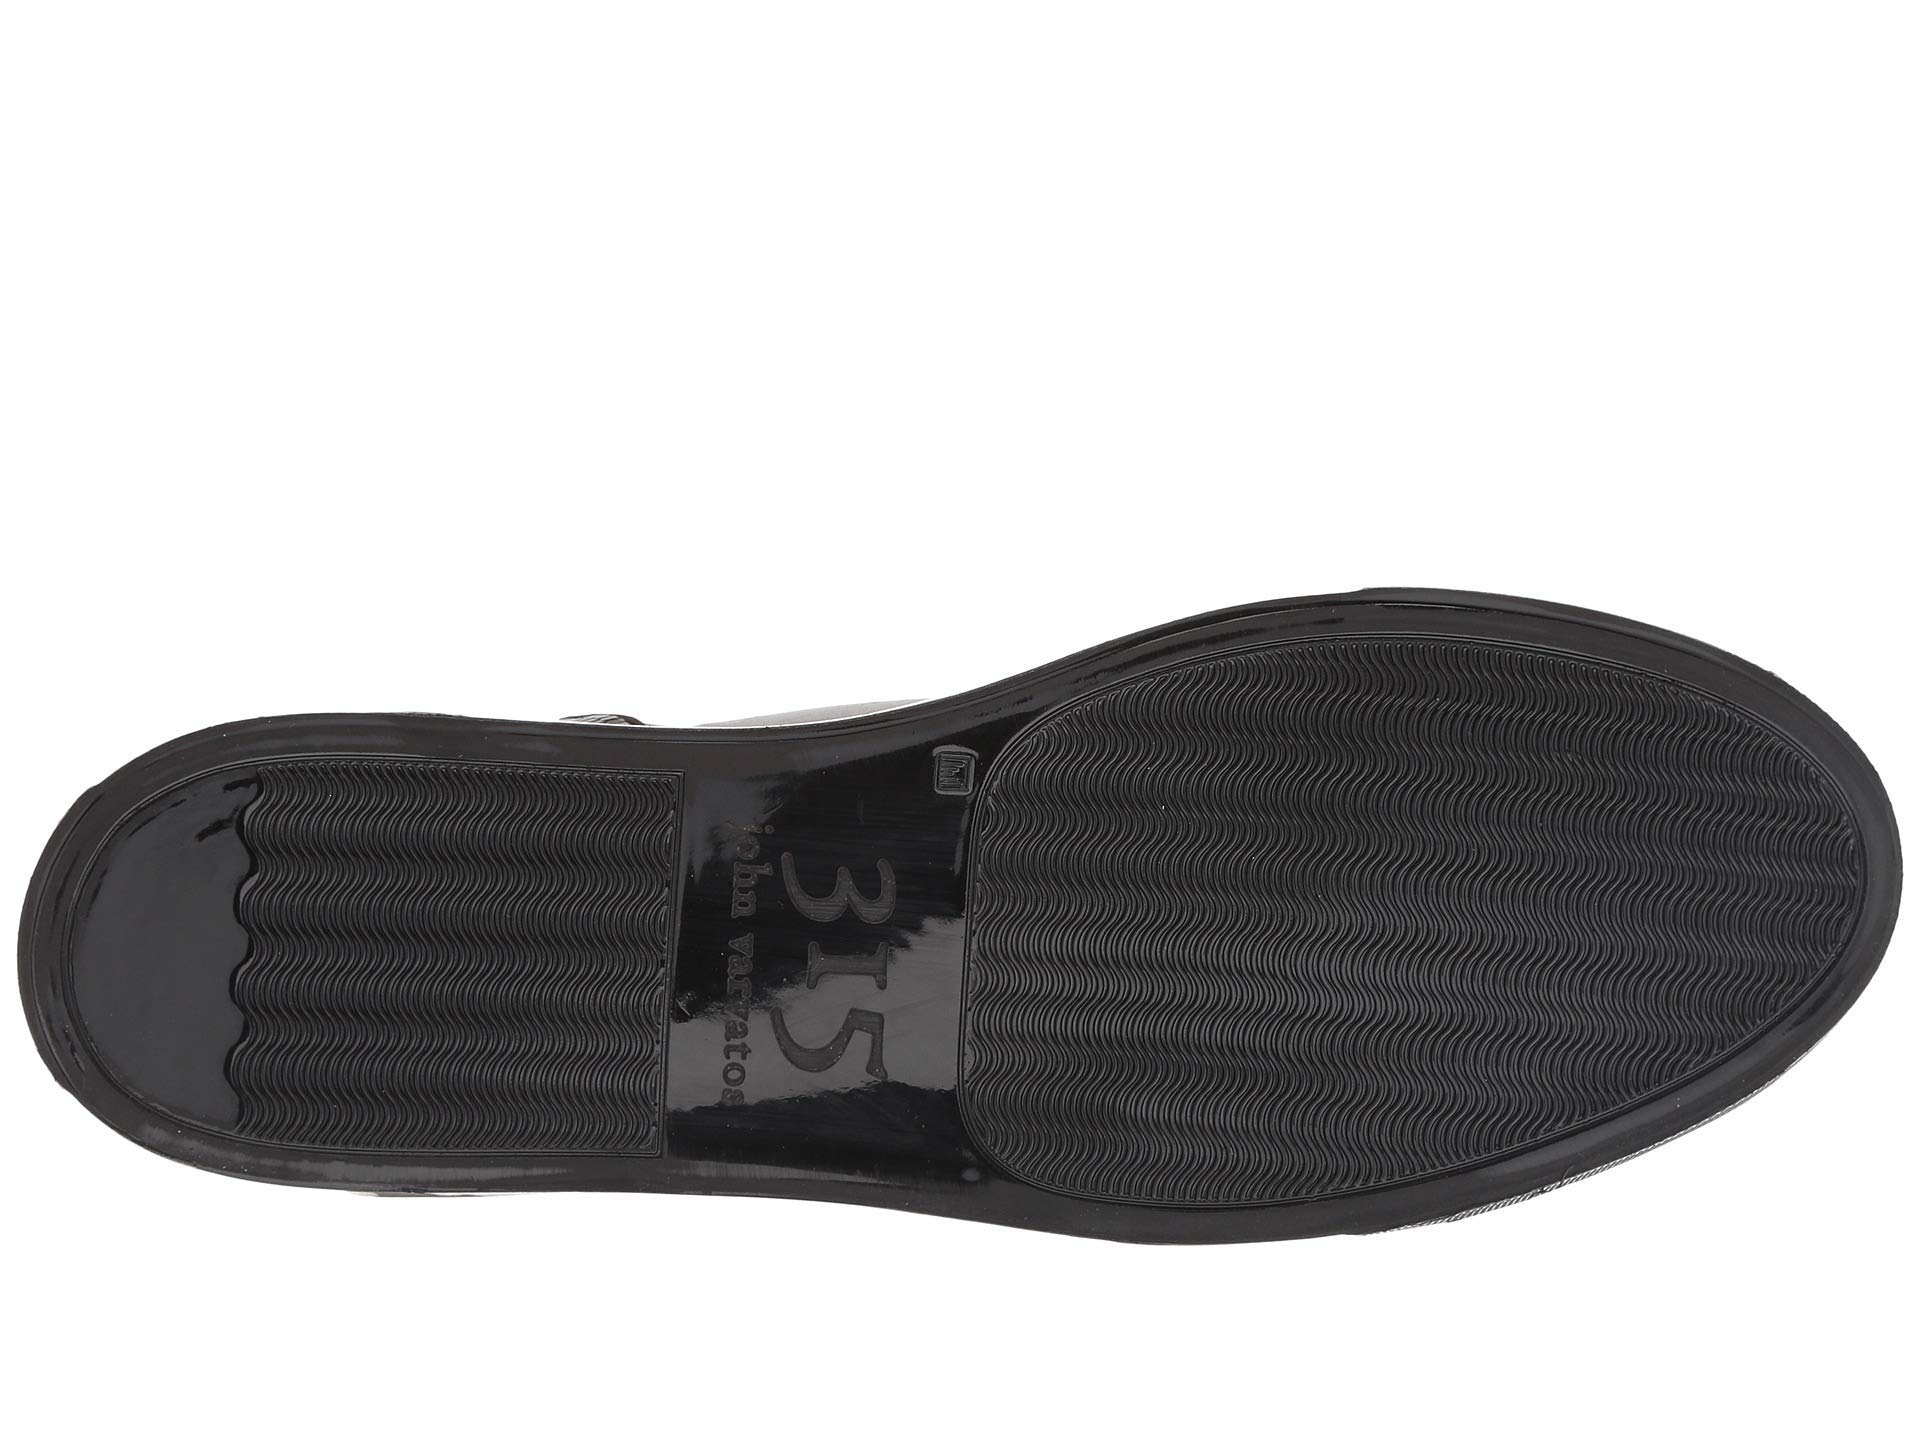chevron: (1020, 669, 1807, 1175), (207, 771, 652, 1119)
circle: (708, 793, 942, 1134)
quad: (924, 743, 992, 808)
text: (708, 793, 942, 1134)
